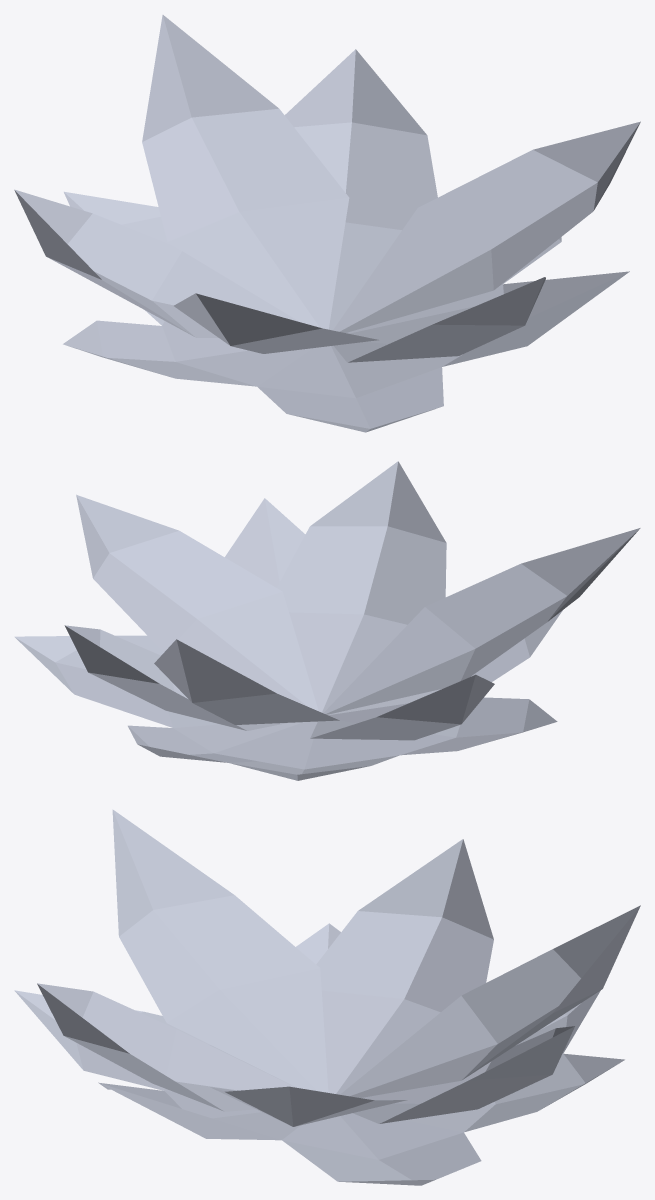
Rendered from Water Lily Flower.fbx.
3 views of the same model, one above another, from view 1: azimuth 30°, elevation 25°; view 2: azimuth 150°, elevation 25°; view 3: azimuth 270°, elevation 25° (orthographic). The views are drawn at different scales.
Visible parts, largest first — view 1: Water Lily Flower; view 2: Water Lily Flower; view 3: Water Lily Flower.
Part boxes in pixels (bbox=[...]): Water Lily Flower: bbox=[14, 15, 640, 432]; Water Lily Flower: bbox=[14, 461, 640, 780]; Water Lily Flower: bbox=[14, 809, 640, 1185].
Bounding box in the file's own units: 0.3579 × 0.1261 × 0.3632.
